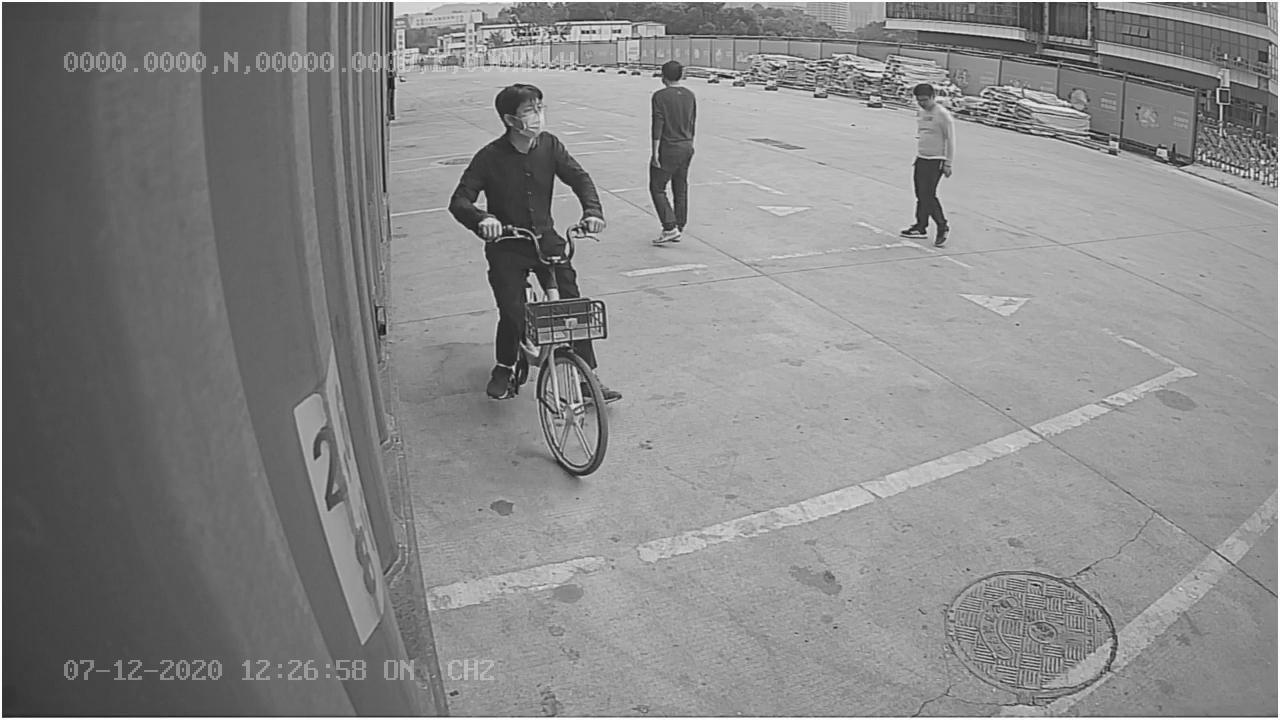person: (640, 58, 705, 249)
